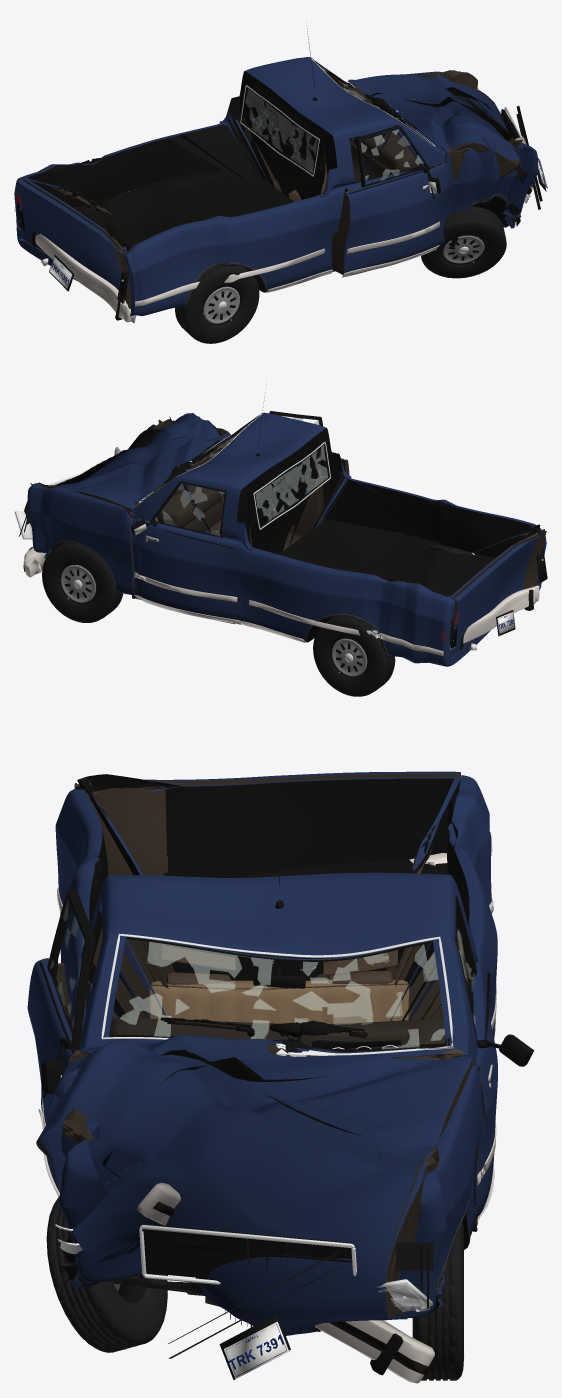
File: pickup87_front_corner_R_d2_lod1.glb
The picture shows the model from 3 angles, top to bottom: view 1: azimuth 30°, elevation 25°; view 2: azimuth 150°, elevation 25°; view 3: azimuth 270°, elevation 25°; orthographic projection. The views are drawn at different scales.
Visible parts, largest first — view 1: Body, Door_FR, Hood, Tailgate, Wheel_RR_mesh, Wheel_FR_mesh, Glass, Interior, Trim, Ends, Bumper_R, Trim_FR (+1 smaller); view 2: Body, Door_FL, Hood, Wheel_RL_mesh, Wheel_FL_mesh, Tailgate, Glass, Interior, Trim, Trim_FL, Bumper_R, Ends (+2 smaller); view 3: Body, Hood, Interior, Ends, Glass, Wheel_FR_mesh, Door_FR, Bumper_F, Wheel_FL_mesh, Door_FL, Trim, Trim_FL (+3 smaller).
Part boxes in pixels (box(x1,y1,x2,y2)): Body: box(14, 57, 537, 317); Door_FR: box(331, 125, 446, 274); Hood: box(348, 74, 532, 203); Tailgate: box(16, 179, 128, 306); Wheel_RR_mesh: box(175, 265, 259, 343); Wheel_FR_mesh: box(421, 206, 506, 278); Glass: box(240, 58, 435, 176); Interior: box(292, 87, 418, 197); Trim: box(135, 26, 521, 306); Ends: box(16, 106, 547, 303); Bumper_R: box(31, 231, 136, 323); Trim_FR: box(341, 127, 441, 277); Body: box(27, 412, 546, 666); Door_FL: box(131, 481, 241, 620); Hood: box(24, 413, 229, 526); Wheel_RL_mesh: box(313, 616, 395, 696); Wheel_FL_mesh: box(42, 542, 123, 622); Tailgate: box(452, 531, 546, 656); Glass: box(139, 414, 330, 529); Interior: box(153, 443, 227, 535); Trim: box(45, 384, 443, 656); Trim_FL: box(131, 481, 241, 624); Bumper_R: box(459, 585, 539, 649); Ends: box(14, 471, 547, 649); Body: box(50, 774, 497, 1318); Hood: box(36, 1035, 473, 1335); Interior: box(109, 944, 445, 1049); Ends: box(55, 1223, 433, 1379); Glass: box(101, 933, 453, 1056); Wheel_FR_mesh: box(46, 1196, 167, 1352); Door_FR: box(27, 890, 95, 1192); Bumper_F: box(137, 1182, 434, 1383); Wheel_FL_mesh: box(412, 1221, 464, 1380); Door_FL: box(455, 894, 497, 1216); Trim: box(56, 782, 496, 1327); Trim_FL: box(455, 895, 534, 1222).
Size of the model in its own units: 4.97 by 2.57 by 2.31.
Materials: 34 (5 with a texture image).
